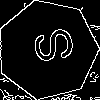S: (22, 25, 76, 69)
